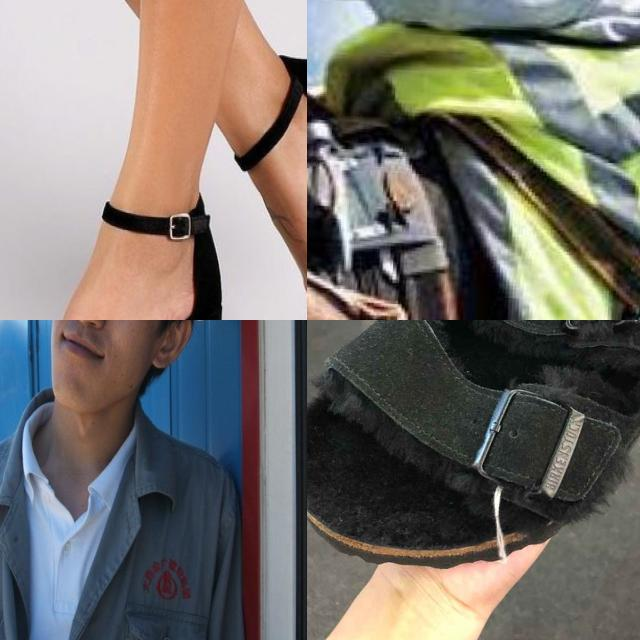Harness: (307, 44, 640, 320)
No_Ear-Protection: (44, 320, 215, 422)
Sandals: (307, 320, 640, 583), (0, 184, 227, 320), (223, 55, 307, 320)
